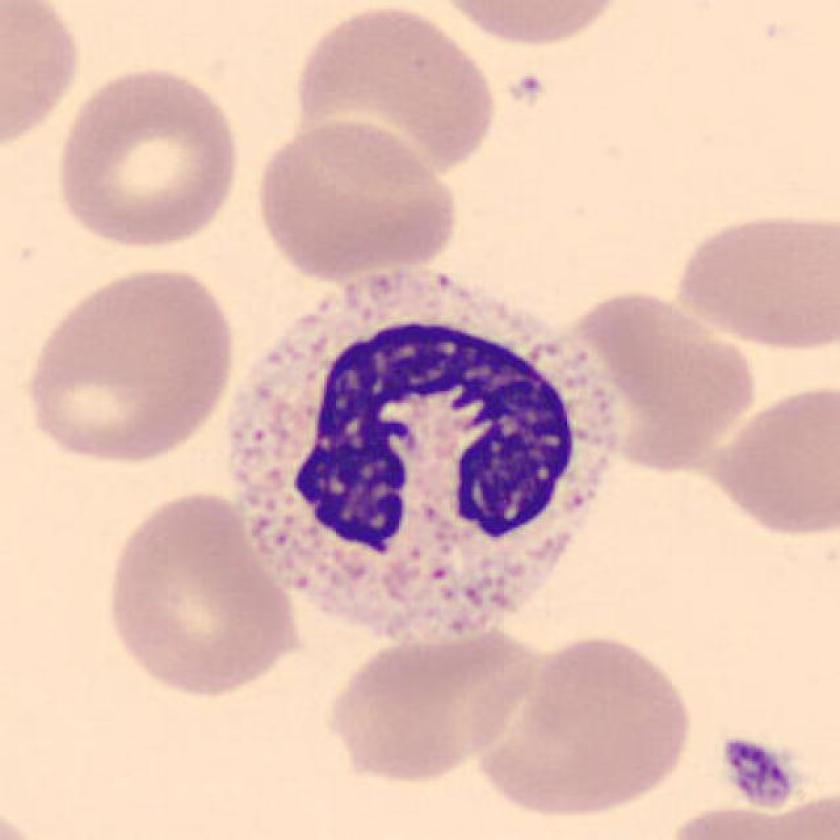neutrophil: (231, 270, 618, 638)
